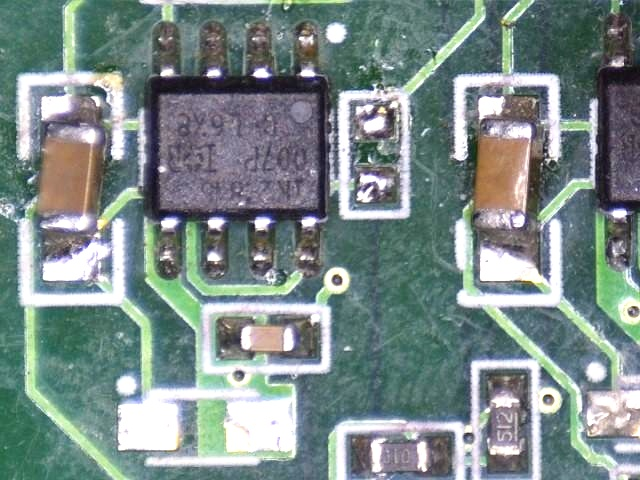pcb_defect: (470, 93, 542, 283), (36, 95, 108, 283)
